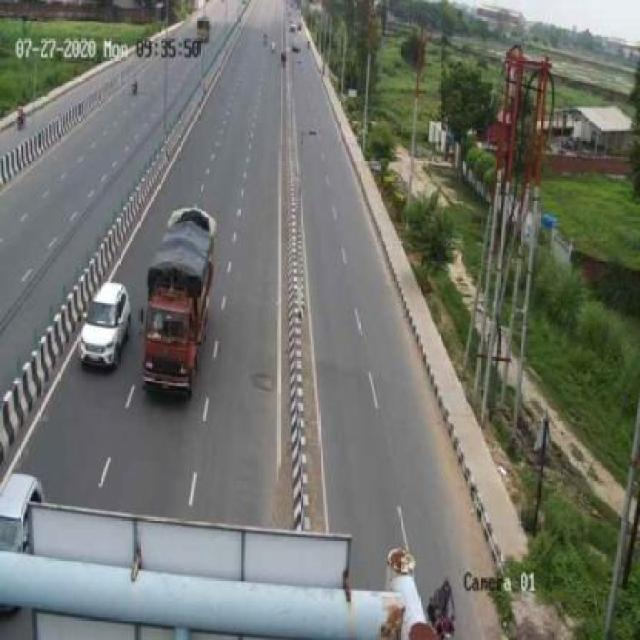car: (74, 282, 137, 382)
